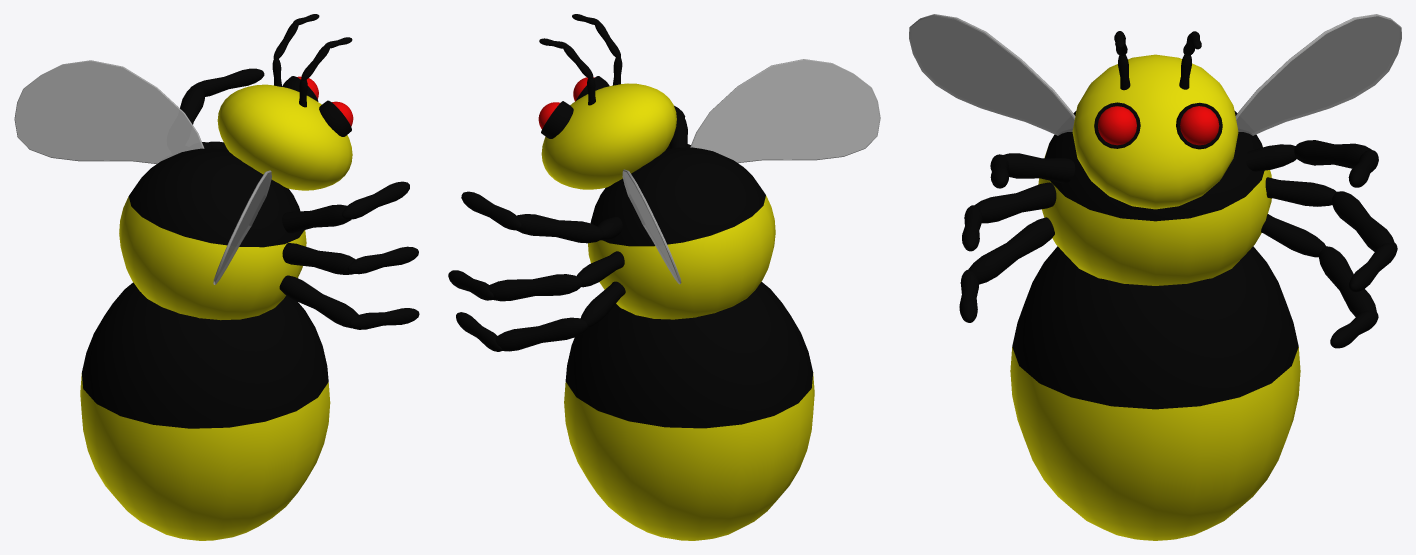
Rendered from KillerBees.fbx.
The picture shows the model from 3 angles, left to right: view 1: azimuth 30°, elevation 25°; view 2: azimuth 150°, elevation 25°; view 3: azimuth 270°, elevation 25°; orthographic projection. The views are drawn at different scales.
Visible parts, largest first — view 1: polySurface4; view 2: polySurface4; view 3: polySurface4.
Part boxes in pixels (x1,y1,x2,y2): polySurface4: [14, 14, 419, 540]; polySurface4: [448, 14, 880, 540]; polySurface4: [909, 14, 1401, 540].
Size of the model in its own units: 2.51 by 4.27 by 3.4.
